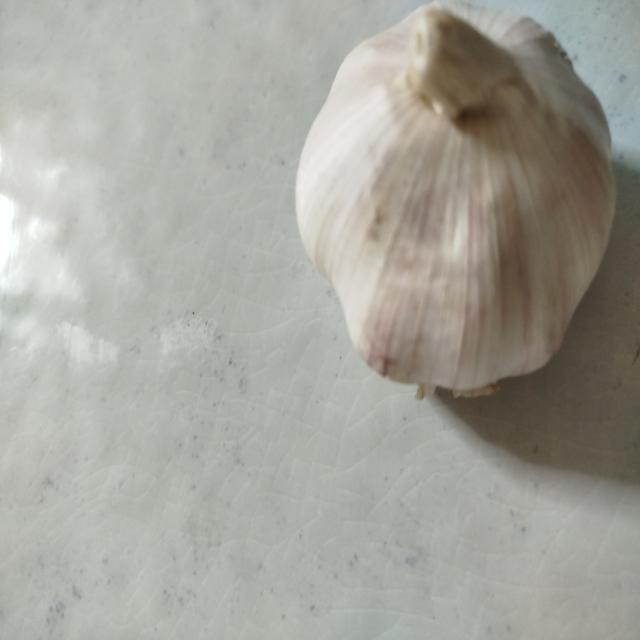garlic: (294, 0, 616, 401)
